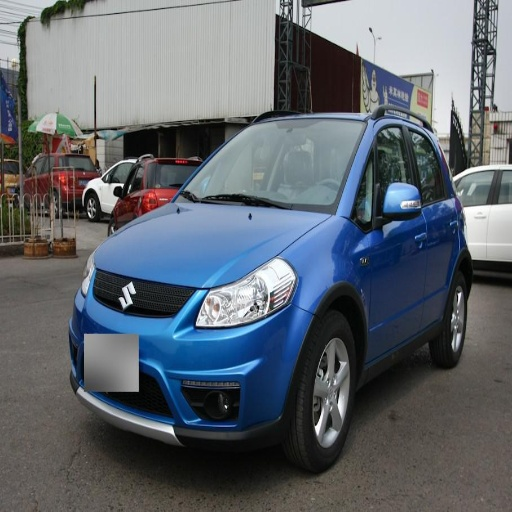front_bumper: (68, 269, 311, 441)
front_glass: (180, 122, 366, 213)
front_left_door: (368, 120, 427, 358)
